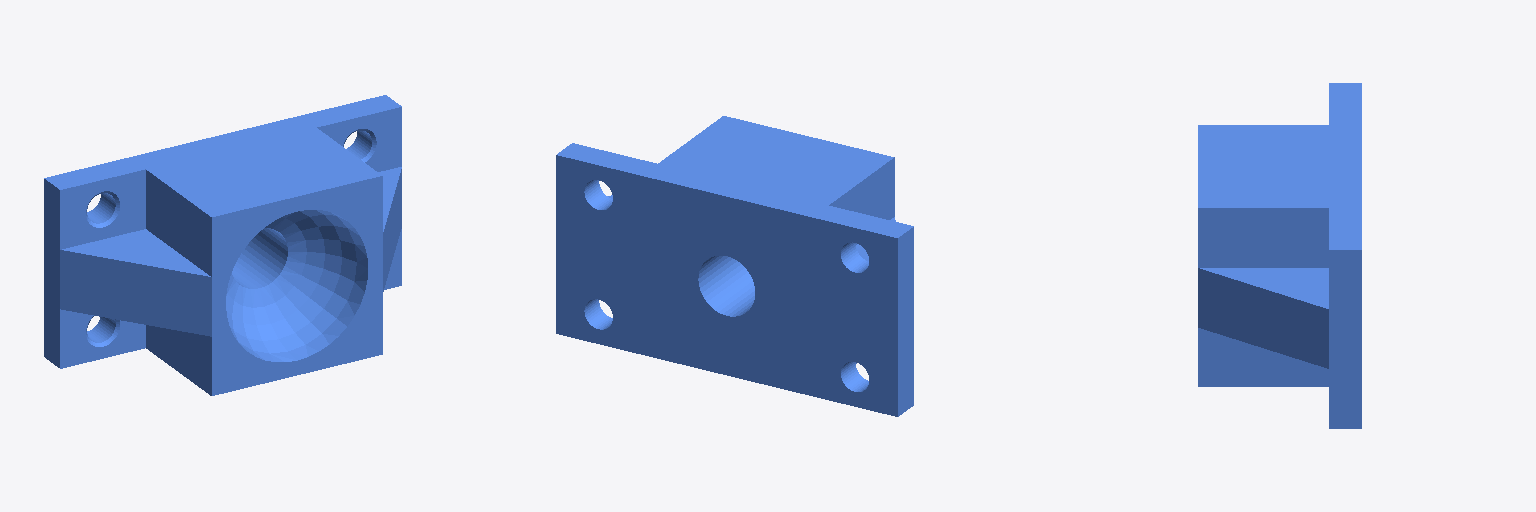
The model's file is 7_Exercicio_5.obj.
The picture shows the model from 3 angles: view 1: azimuth 30°, elevation 25°; view 2: azimuth 150°, elevation 25°; view 3: azimuth 270°, elevation 25°; orthographic projection.
Parts seen in each view (by area): view 1: 7_Exercicio_5; view 2: 7_Exercicio_5; view 3: 7_Exercicio_5.
Part boxes in pixels (bbox=[...]): 7_Exercicio_5: bbox=[44, 95, 401, 395]; 7_Exercicio_5: bbox=[556, 116, 913, 416]; 7_Exercicio_5: bbox=[1198, 83, 1361, 428].
Bounding box in the file's own units: 120 × 60 × 50.